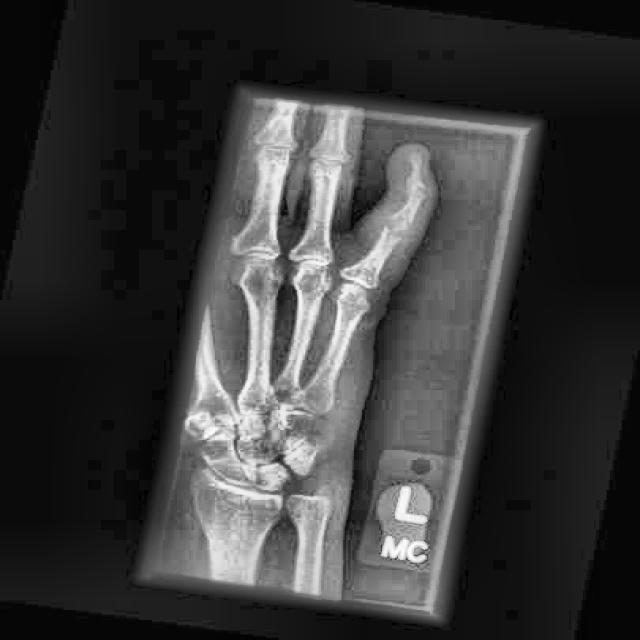fingers positive: (364, 168, 438, 270)
